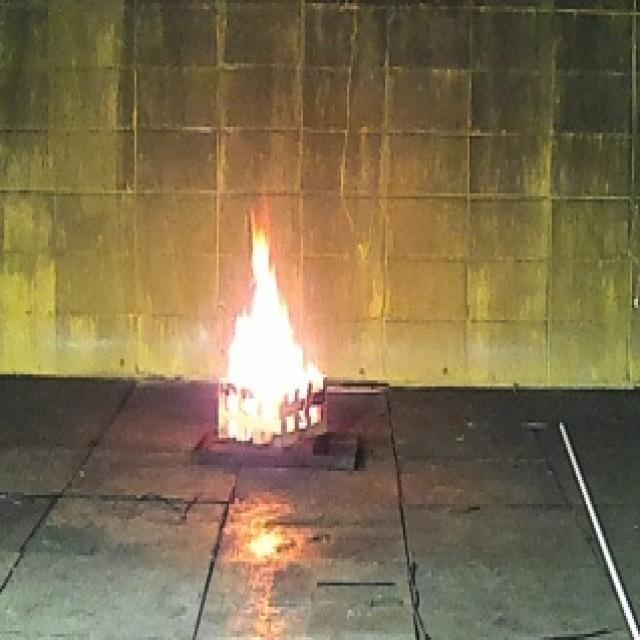Fire: (219, 206, 327, 442)
